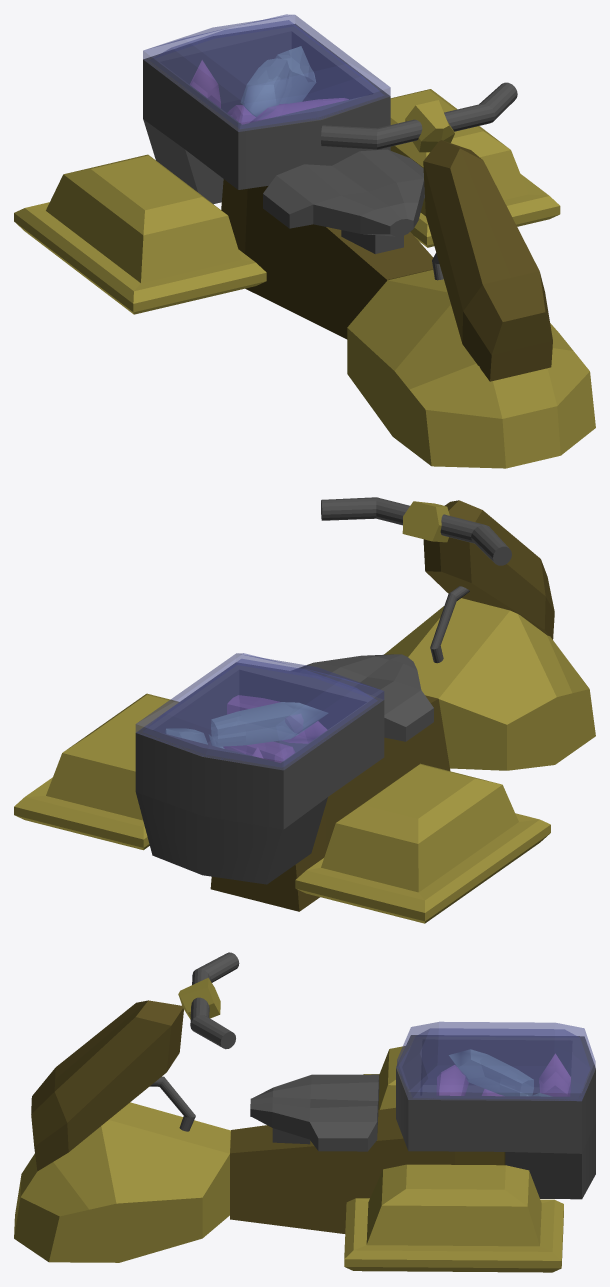
The model's file is bike.fbx.
The picture shows the model from 3 angles, top to bottom: view 1: azimuth 30°, elevation 25°; view 2: azimuth 150°, elevation 25°; view 3: azimuth 270°, elevation 25°; orthographic projection. The views are drawn at different scales.
Parts seen in each view (by area): view 1: bikeFront, bikeCrystalCrate, LHover, bikeSteer, glassTop1, bikeBack, Seat, RHover, handlebar, pCube6, bikeSteerTop, pCube2 (+2 smaller); view 2: bikeCrystalCrate, LHover, bikeFront, glassTop1, RHover, bikeSteer, bikeBack, Seat, handlebar, pCube6, bikeSteerTop, pCube1 (+2 smaller); view 3: bikeFront, bikeCrystalCrate, RHover, bikeBack, glassTop1, bikeSteer, Seat, pCube6, handlebar, LHover, pCube3, bikeSteerTop (+2 smaller).
Boxes of the visible parts, x1,y1,x2,y2 form: bikeFront: (347,270,595,468); bikeCrystalCrate: (143,24,390,204); LHover: (14,154,266,314); bikeSteer: (423,140,552,381); glassTop1: (143,14,390,131); bikeBack: (221,179,433,339); Seat: (263,149,424,253); RHover: (390,89,560,247); handlebar: (321,82,517,149); pCube6: (241,58,289,116); bikeSteerTop: (405,100,454,152); pCube2: (275,46,315,103); bikeCrystalCrate: (135,662,384,884); LHover: (295,763,550,923); bikeFront: (384,598,595,770); glassTop1: (135,653,384,769); RHover: (14,693,178,850); bikeSteer: (423,500,554,639); bikeBack: (210,695,450,911); Seat: (292,654,433,741); handlebar: (321,497,511,565); pCube6: (211,702,327,746); bikeSteerTop: (402,501,449,542); pCube1: (227,695,326,743); bikeFront: (14,1102,230,1262); bikeCrystalCrate: (396,1035,595,1199); RHover: (344,1164,563,1272); bikeBack: (230,1107,505,1233); glassTop1: (397,1021,595,1101); bikeSteer: (31,1000,183,1171); Seat: (250,1074,379,1151); pCube6: (449,1049,533,1095); handlebar: (190,952,239,1049); LHover: (363,1046,405,1109); pCube3: (539,1054,570,1096); bikeSteerTop: (178,977,220,1019).
Bounding box in the file's own units: 5.02 × 6.74 × 3.14.
